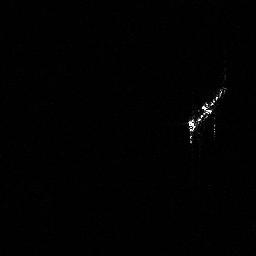ship: (184, 82, 230, 147)
